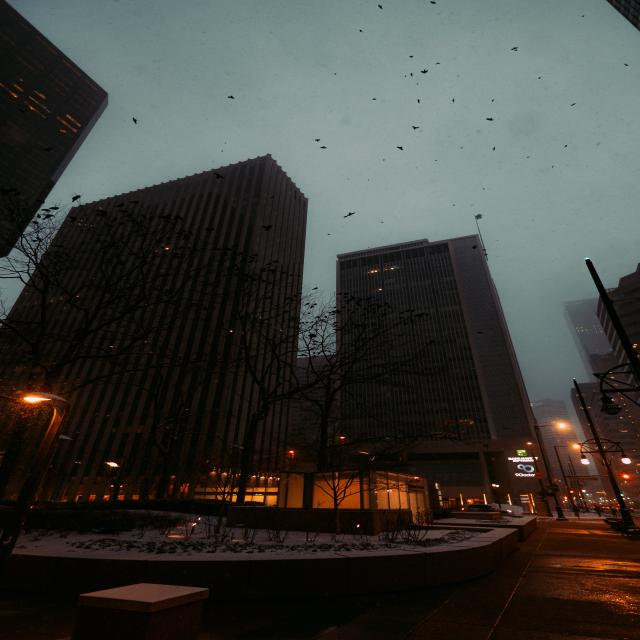Street Light: (17, 388, 69, 559), (533, 422, 567, 522), (552, 445, 581, 517), (286, 449, 296, 492)
